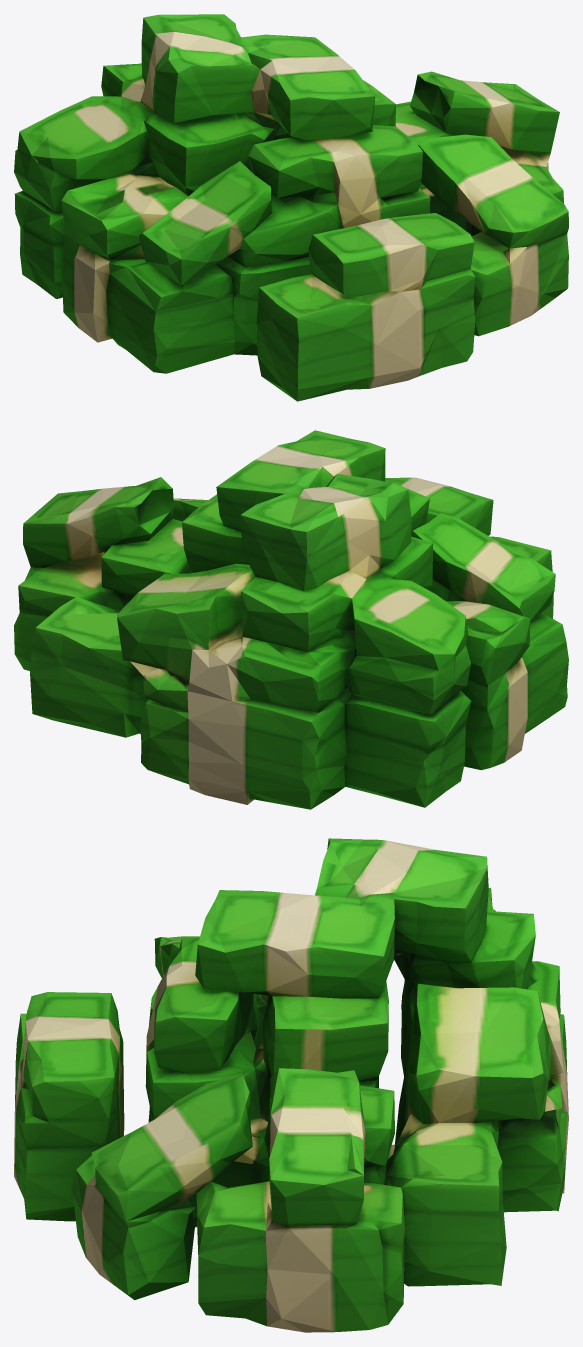
Rendered from money_pile.glb.
3 views of the same model, one above another, from view 1: azimuth 30°, elevation 25°; view 2: azimuth 150°, elevation 25°; view 3: azimuth 270°, elevation 25° (orthographic). The views are drawn at different scales.
Parts seen in each view (by area): view 1: geometry_0; view 2: geometry_0; view 3: geometry_0.
Part boxes in pixels (x1,y1,x2,y2): geometry_0: (14, 14, 568, 401); geometry_0: (14, 430, 568, 809); geometry_0: (14, 838, 568, 1332).
Size of the model in its own units: 0.9901 by 0.5131 by 0.8582.
1 material, 1 textured.
